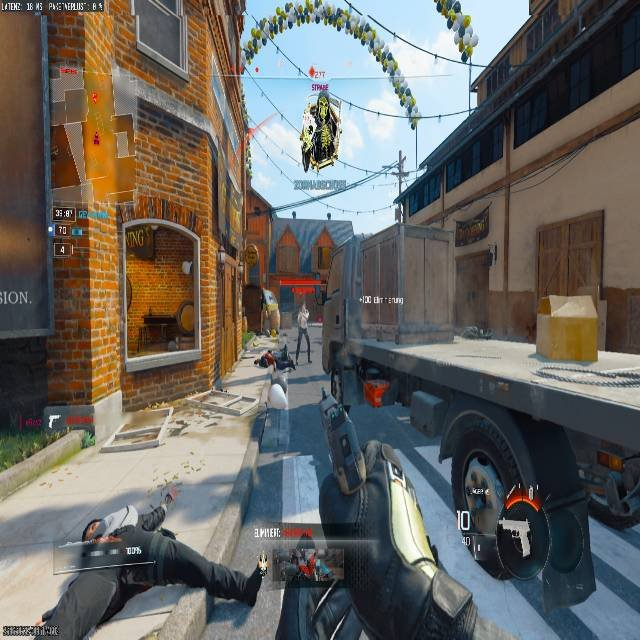head: (280, 344, 289, 354)
player: (255, 346, 296, 397), (295, 304, 312, 352)
